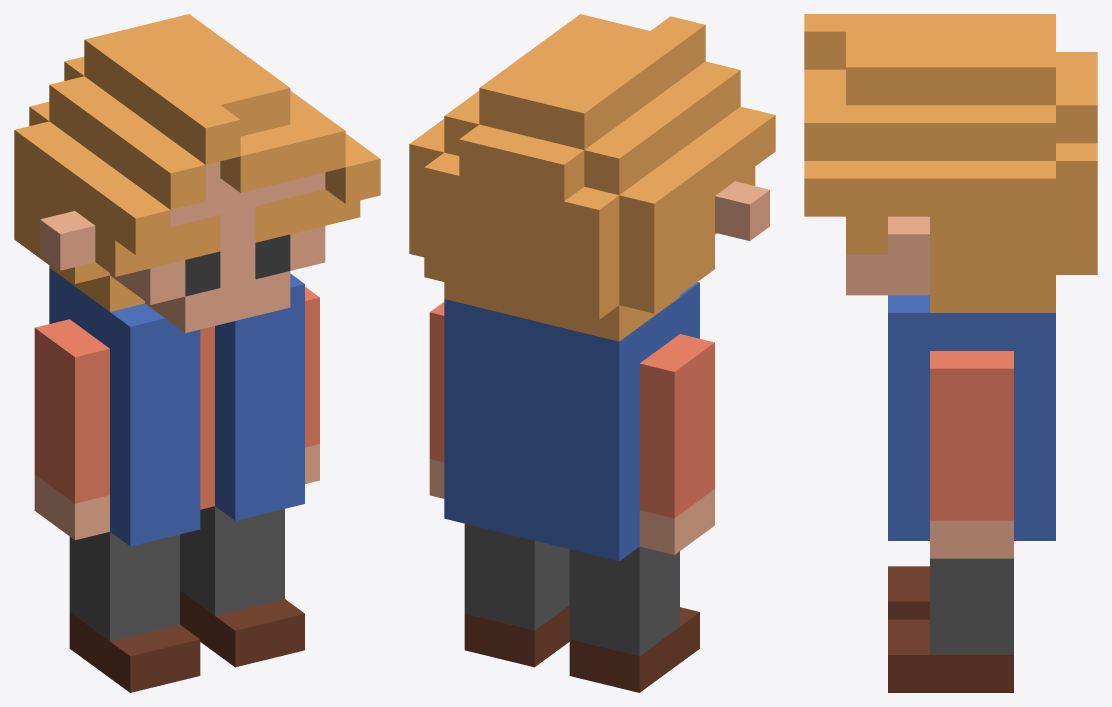
File: persona2.vox.obj
The picture shows the model from 3 angles, left to right: view 1: azimuth 30°, elevation 25°; view 2: azimuth 150°, elevation 25°; view 3: azimuth 270°, elevation 25°; orthographic projection. The views are drawn at different scales.
Bounding box in the file's own units: 0.9 × 1.6 × 0.7.
1 material, 1 textured.
